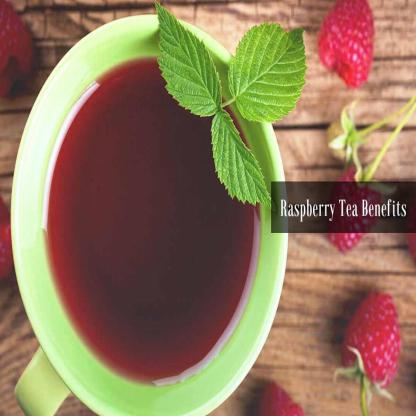raspberry leaf: (150, 2, 224, 120), (232, 22, 307, 121), (209, 110, 275, 212)
